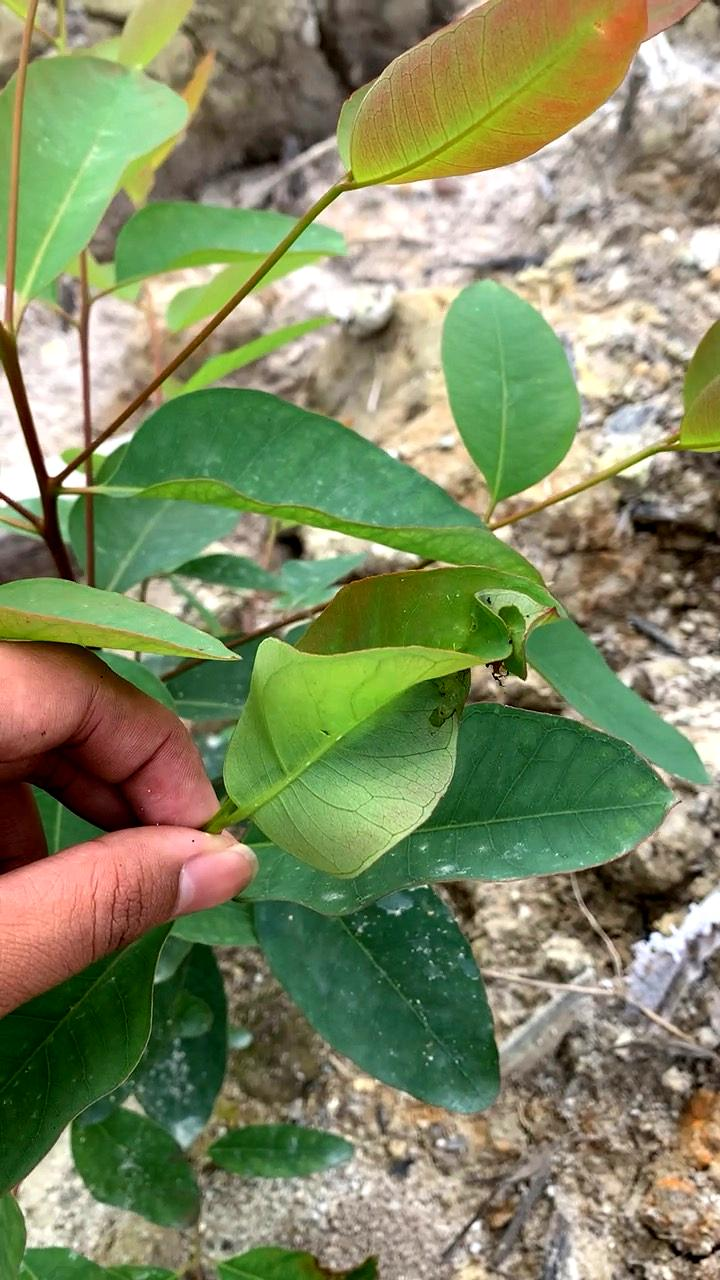Leaf Roller - Leaf: (191, 546, 587, 914)
